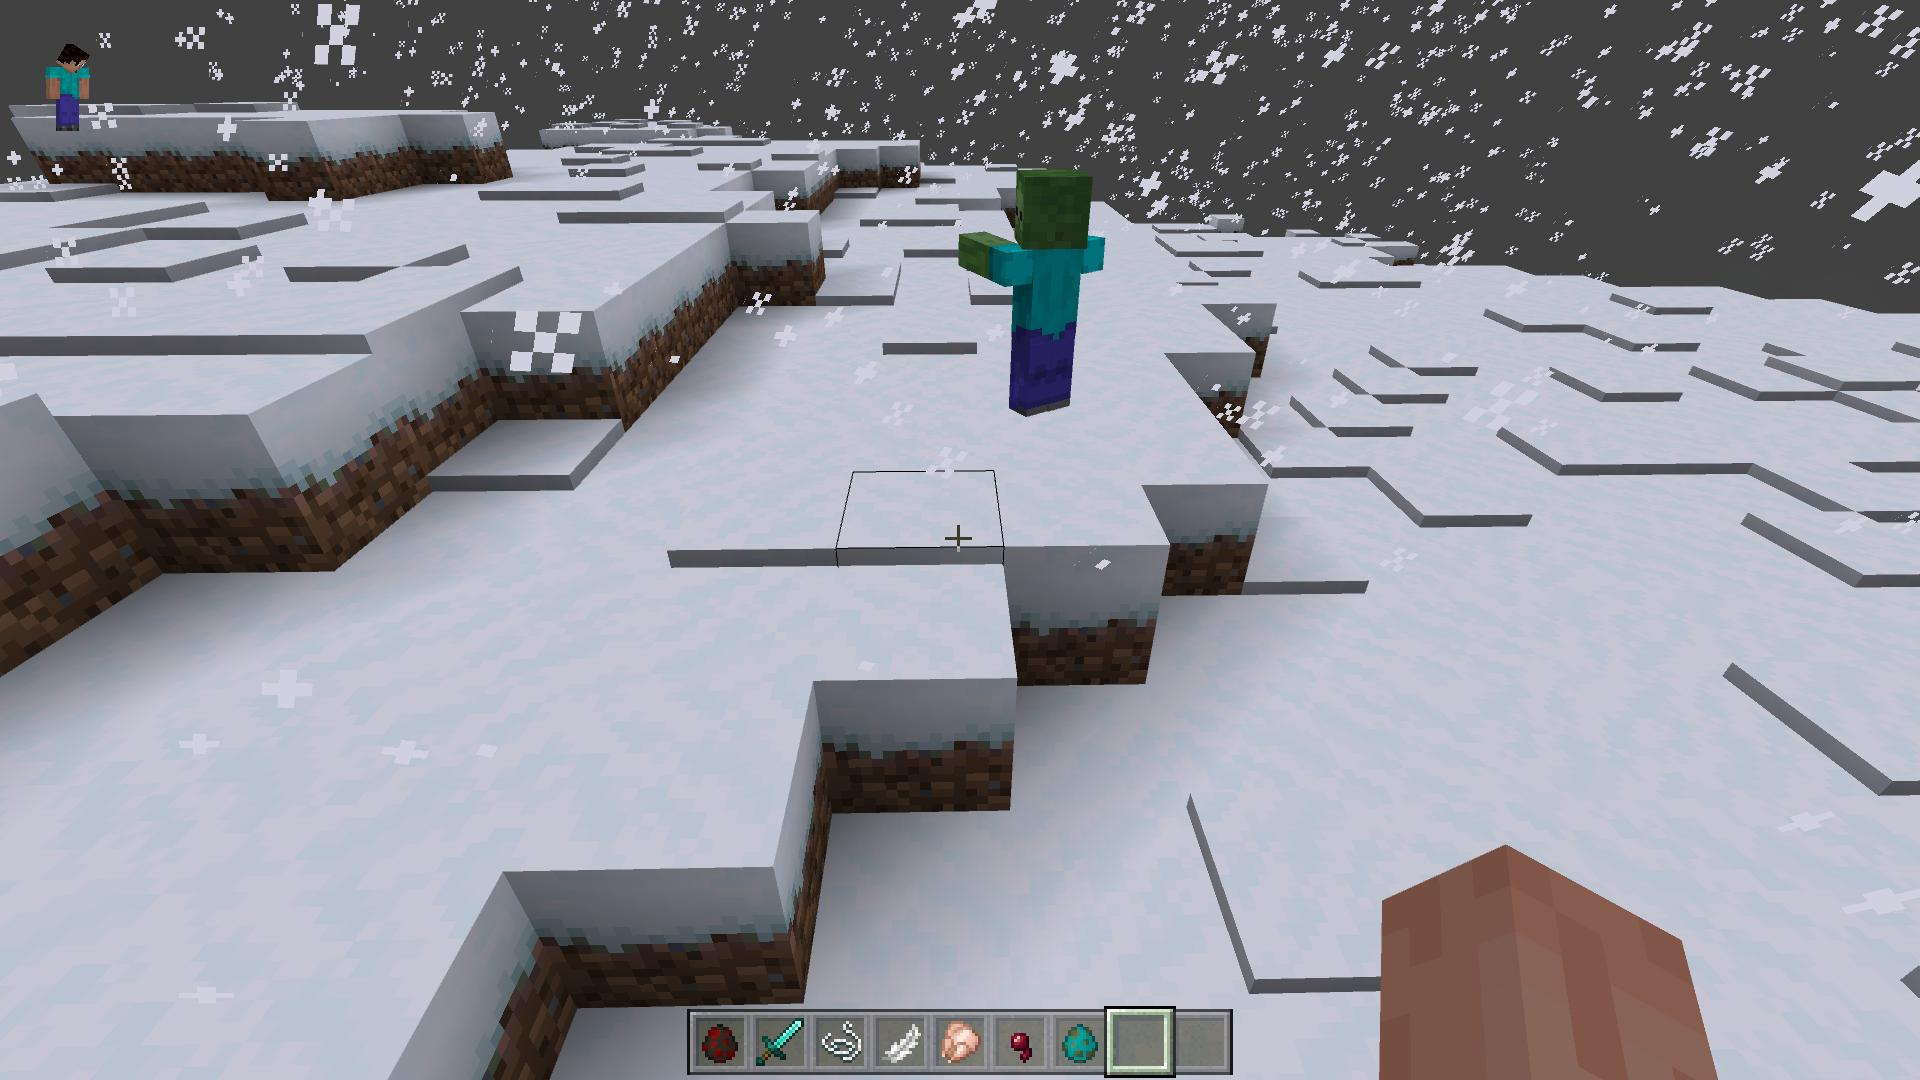zombie: (965, 166, 1105, 415)
